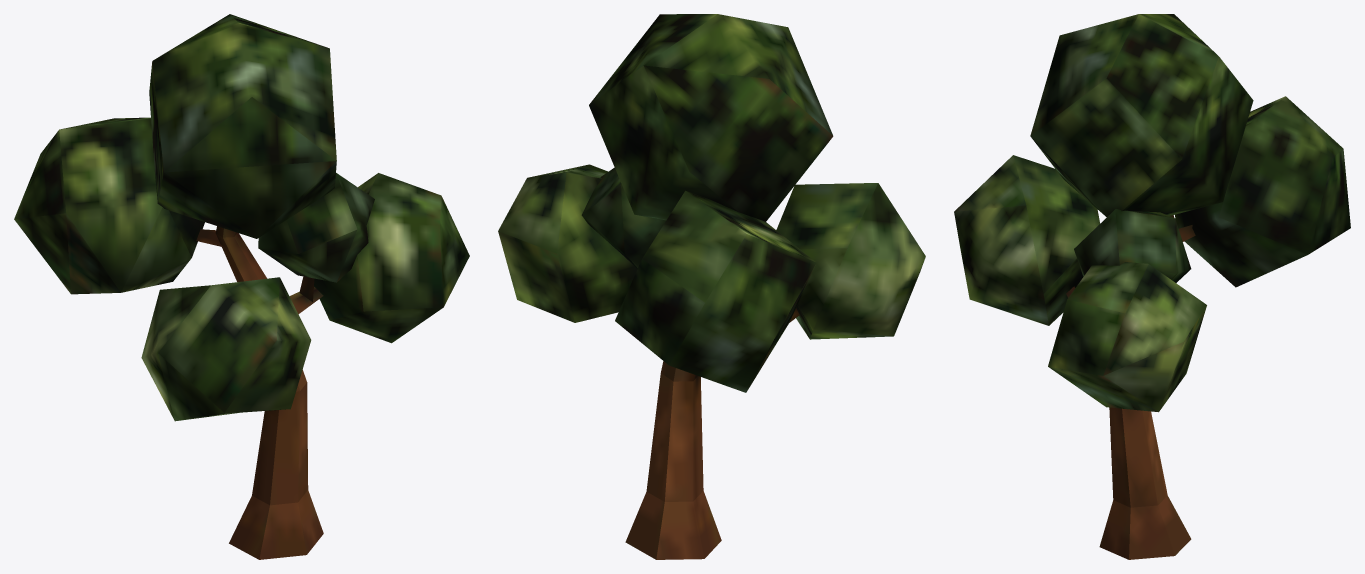
File: TreeL.fbx
3 views of the same model, side by side, from view 1: azimuth 30°, elevation 25°; view 2: azimuth 150°, elevation 25°; view 3: azimuth 270°, elevation 25° (orthographic). The views are drawn at different scales.
Visible parts, largest first — view 1: TreeL; view 2: TreeL; view 3: TreeL.
Part boxes in pixels (x1=…): TreeL: x1=14, y1=14, x2=469, y2=559; TreeL: x1=498, y1=14, x2=925, y2=559; TreeL: x1=954, y1=14, x2=1350, y2=559.
Bounding box in the file's own units: 3405 × 4850 × 3404.
